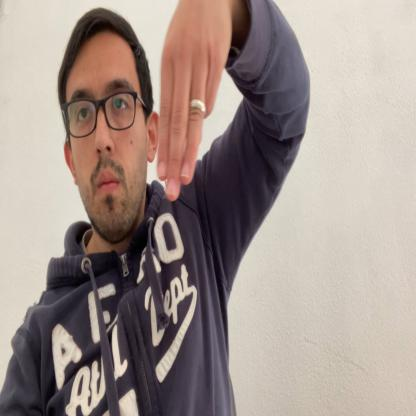M: (156, 1, 232, 203)
